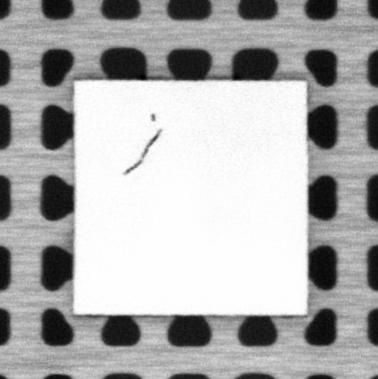DIE_INK: (122, 128, 161, 176), (148, 111, 159, 123)
